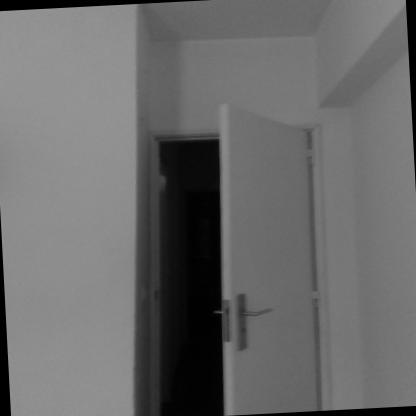semi: (144, 109, 336, 416)
